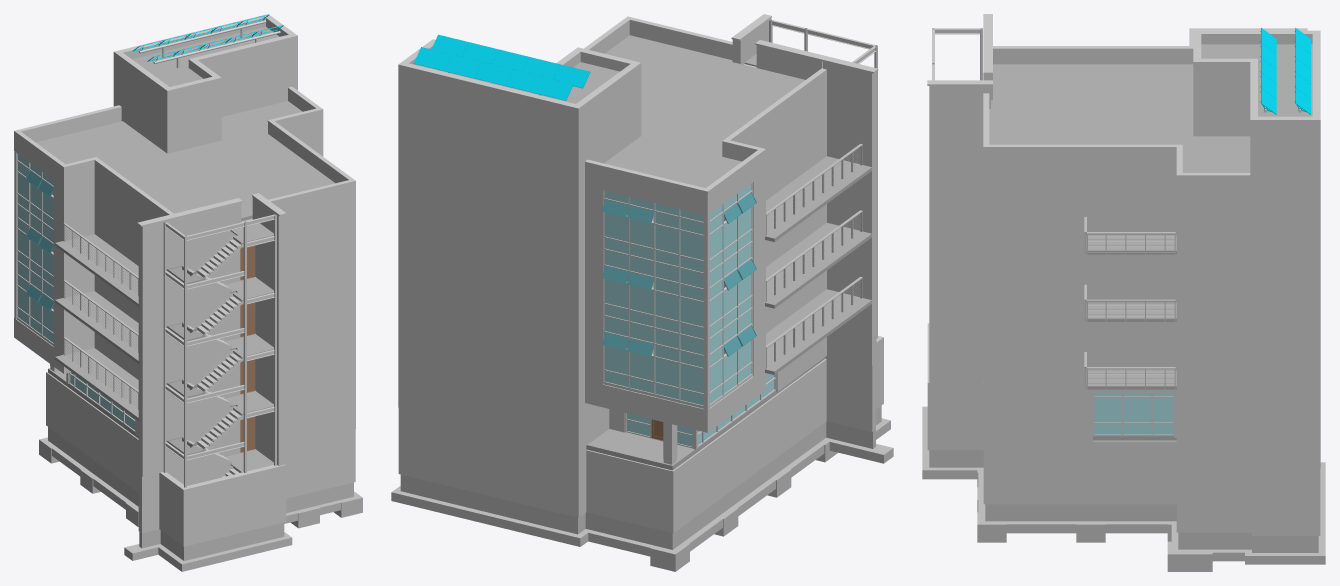
3 views of the same model, side by side, from view 1: azimuth 30°, elevation 25°; view 2: azimuth 150°, elevation 25°; view 3: azimuth 270°, elevation 25° (orthographic). The views are drawn at different scales.
Parts seen in each view (by area): view 1: IfcSlab-7649539440640, IfcWallStandardCase-7644304949248, IfcBuildingElementPart-7644263006208, IfcBuildingElementPart-7649648492546, IfcBuildingElementPart-7645466771456, IfcBuildingElementPart-7646657953792, IfcBuildingElementPart-7644443361281, IfcBuildingElementPart-7647916244993, IfcBuildingElementPart-7644242034688, IfcBuildingElementPart-7649623326721, IfcBuildingElementPart-7649614938114, IfcBuildingElementPart-7647903662081 (+69 smaller); view 2: IfcSlab-7649539440640, IfcBuildingElementPart-7648687996929, IfcBuildingElementPart-7647396151297, IfcBuildingElementPart-7646246912000, IfcBuildingElementPart-7645001203712, IfcBuildingElementPart-7649631715329, IfcBuildingElementPart-7644216868866, IfcBuildingElementPart-7644263006208, IfcBuildingElementPart-7644254617600, IfcBuildingElementPart-7647903662081, IfcBuildingElementPart-7649614938114, IfcSlab-7648646053888 (+42 smaller); view 3: IfcSlab-7649539440640, IfcBuildingElementPart-7644275589121, IfcBuildingElementPart-7644464332800, IfcBuildingElementPart-7646670536706, IfcBuildingElementPart-7647933022208, IfcBuildingElementPart-7645500325888, IfcBuildingElementPart-7647945605121, IfcBuildingElementPart-7648025296897, IfcBuildingElementPart-7646796365825, IfcBuildingElementPart-7644485304321, IfcBuildingElementPart-7645596794880, IfcBuildingElementPart-7644246228994 (+48 smaller).
Boxes of the visible parts, x1=… form: IfcSlab-7649539440640: x1=36, y1=101, x2=334, y2=220; IfcWallStandardCase-7644304949248: x1=183, y1=464, x2=284, y2=546; IfcBuildingElementPart-7644263006208: x1=46, y1=372, x2=138, y2=492; IfcBuildingElementPart-7649648492546: x1=207, y1=44, x2=297, y2=116; IfcBuildingElementPart-7645466771456: x1=285, y1=315, x2=355, y2=388; IfcBuildingElementPart-7646657953792: x1=285, y1=258, x2=355, y2=331; IfcBuildingElementPart-7644443361281: x1=285, y1=372, x2=355, y2=445; IfcBuildingElementPart-7647916244993: x1=285, y1=201, x2=355, y2=274; IfcBuildingElementPart-7644242034688: x1=285, y1=429, x2=355, y2=498; IfcBuildingElementPart-7649623326721: x1=167, y1=86, x2=221, y2=153; IfcBuildingElementPart-7649614938114: x1=113, y1=61, x2=167, y2=153; IfcBuildingElementPart-7647903662081: x1=94, y1=180, x2=148, y2=265; IfcSlab-7649539440640: x1=604, y1=35, x2=805, y2=188; IfcBuildingElementPart-7648687996929: x1=398, y1=141, x2=578, y2=251; IfcBuildingElementPart-7647396151297: x1=398, y1=208, x2=578, y2=318; IfcBuildingElementPart-7646246912000: x1=398, y1=274, x2=578, y2=384; IfcBuildingElementPart-7645001203712: x1=398, y1=341, x2=578, y2=451; IfcBuildingElementPart-7649631715329: x1=398, y1=75, x2=578, y2=185; IfcBuildingElementPart-7644216868866: x1=398, y1=407, x2=578, y2=517; IfcBuildingElementPart-7644263006208: x1=673, y1=359, x2=826, y2=532; IfcBuildingElementPart-7644254617600: x1=586, y1=449, x2=673, y2=533; IfcBuildingElementPart-7647903662081: x1=754, y1=93, x2=826, y2=200; IfcBuildingElementPart-7649614938114: x1=578, y1=73, x2=641, y2=184; IfcSlab-7648646053888: x1=765, y1=156, x2=871, y2=241; IfcSlab-7649539440640: x1=989, y1=64, x2=1250, y2=172; IfcBuildingElementPart-7644275589121: x1=983, y1=440, x2=1176, y2=504; IfcBuildingElementPart-7644464332800: x1=983, y1=374, x2=1092, y2=441; IfcBuildingElementPart-7646670536706: x1=983, y1=238, x2=1086, y2=306; IfcBuildingElementPart-7647933022208: x1=983, y1=171, x2=1086, y2=238; IfcBuildingElementPart-7645500325888: x1=983, y1=306, x2=1086, y2=373; IfcBuildingElementPart-7647945605121: x1=1086, y1=171, x2=1176, y2=235; IfcBuildingElementPart-7648025296897: x1=1176, y1=199, x2=1251, y2=266; IfcBuildingElementPart-7646796365825: x1=1176, y1=267, x2=1251, y2=334; IfcBuildingElementPart-7644485304321: x1=1176, y1=402, x2=1251, y2=469; IfcBuildingElementPart-7645596794880: x1=1176, y1=334, x2=1251, y2=401; IfcBuildingElementPart-7644246228994: x1=1176, y1=469, x2=1251, y2=532.
Size of the model in its own units: 19.8 by 26.54 by 20.55.
